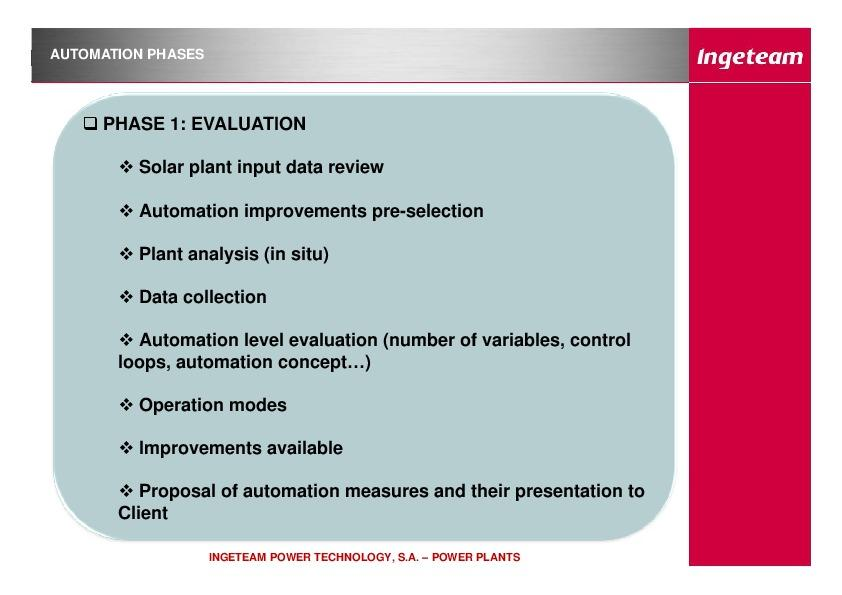paragraph: (70, 102, 667, 543)
subtitle: (199, 543, 537, 576)
title: (41, 39, 808, 76)
